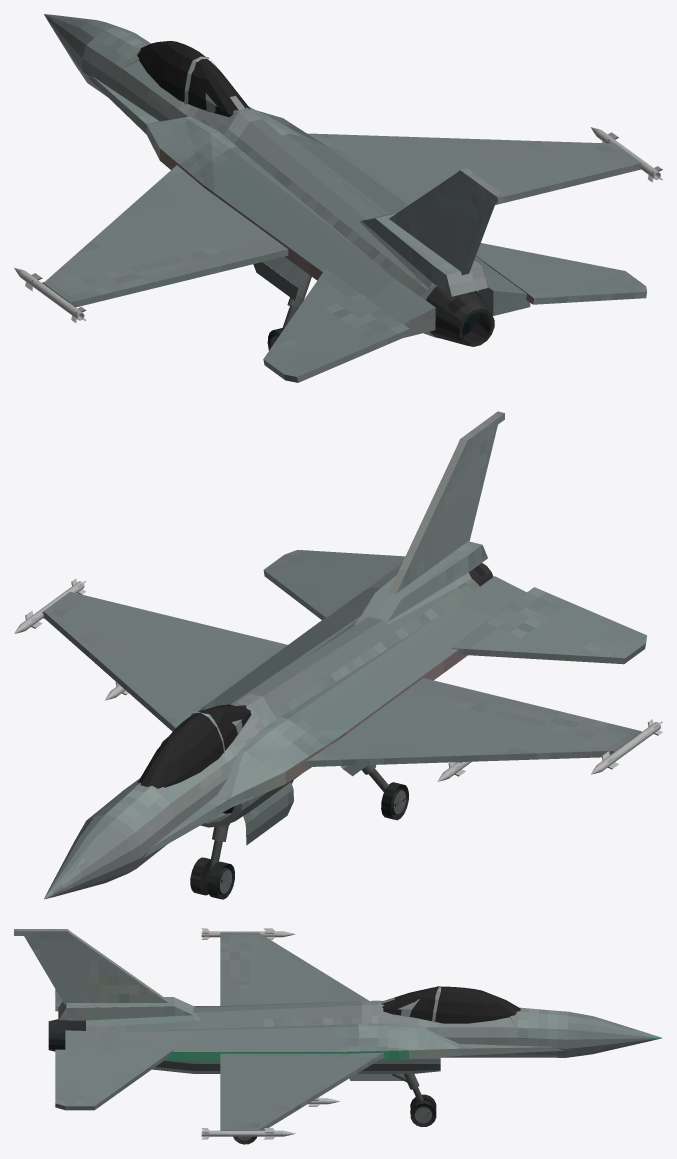
3 views of the same model, one above another, from view 1: azimuth 30°, elevation 25°; view 2: azimuth 150°, elevation 25°; view 3: azimuth 270°, elevation 25° (orthographic). The views are drawn at different scales.
Parts seen in each view (by area): view 1: Object_6, Object_37; view 2: Object_6, Object_37; view 3: Object_6, Object_37.
Part boxes in pixels (bbox=[...]): Object_6: bbox=[14, 14, 662, 382]; Object_37: bbox=[137, 41, 250, 117]; Object_6: bbox=[14, 411, 662, 899]; Object_37: bbox=[137, 703, 251, 788]; Object_6: bbox=[14, 928, 662, 1144]; Object_37: bbox=[382, 986, 520, 1023].
Bounding box in the file's own units: 3.05 × 1.35 × 4.11.
Materials: 7 (6 with a texture image).
